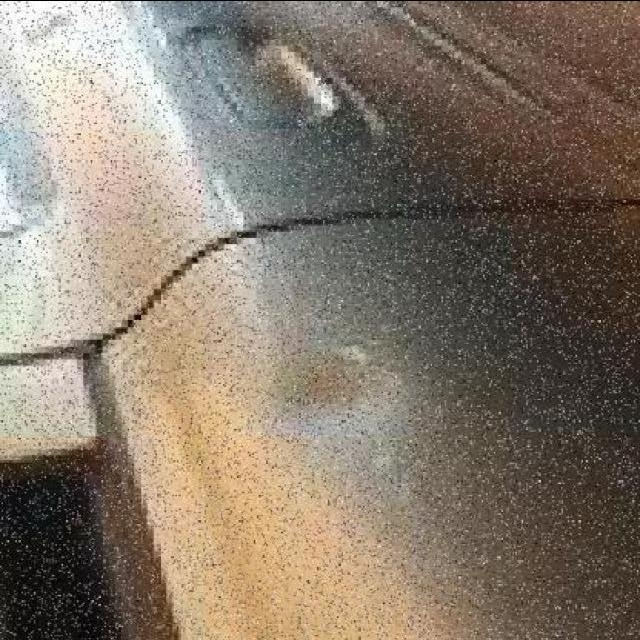doorouter-dent: (116, 116, 622, 640)
